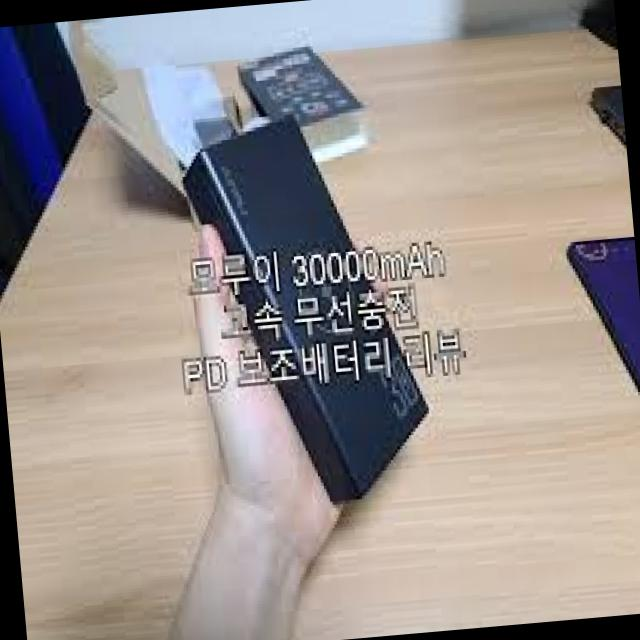power_bank: (182, 112, 439, 516)
